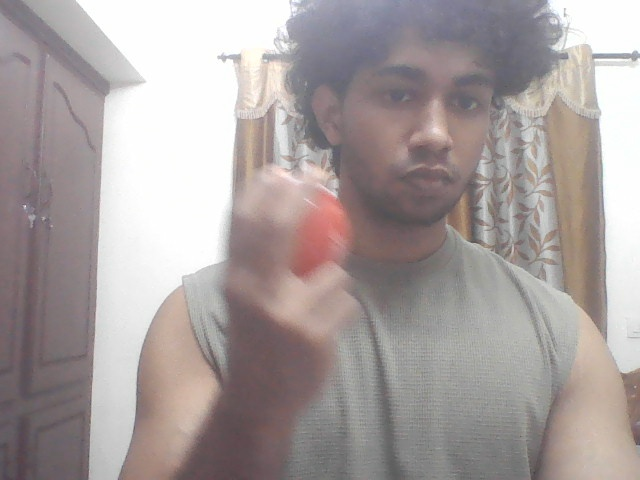cricket_ball: (269, 176, 364, 278)
